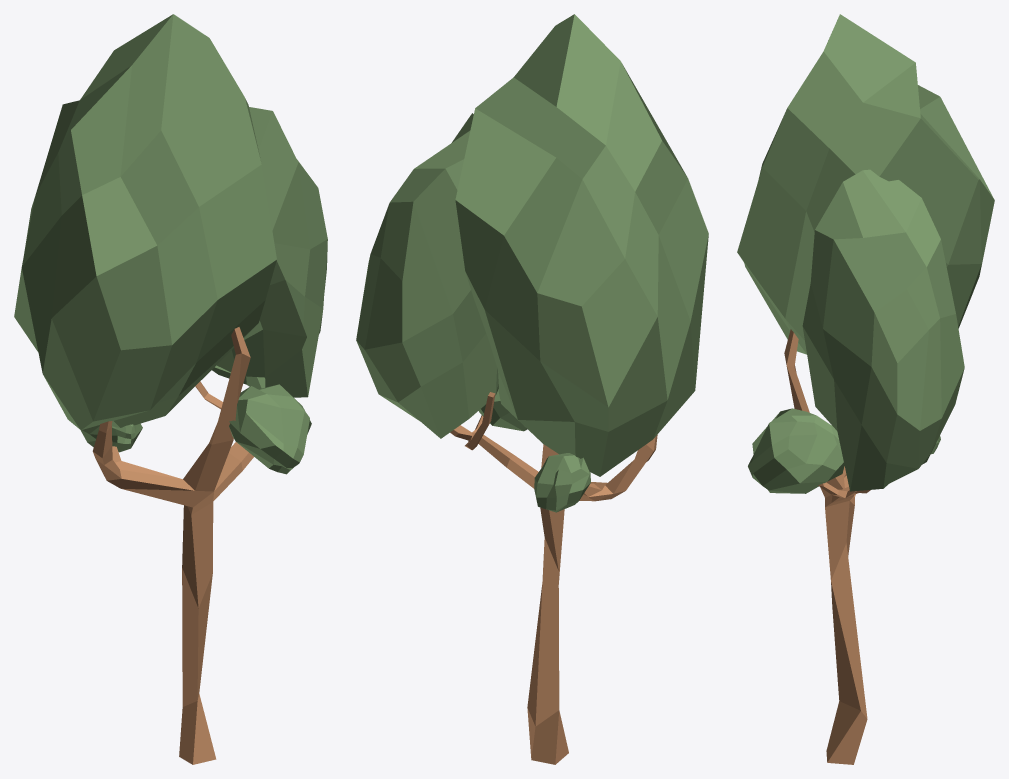
Rendered from ArbolT3.fbx.
The picture shows the model from 3 angles, left to right: view 1: azimuth 30°, elevation 25°; view 2: azimuth 150°, elevation 25°; view 3: azimuth 270°, elevation 25°; orthographic projection. The views are drawn at different scales.
Visible parts, largest first — view 1: Cube, Cube.001, Arbol01, Cube.002, Cube.003; view 2: Cube, Cube.001, Arbol01, Cube.003, Cube.002; view 3: Cube.001, Cube, Arbol01, Cube.002.
Part boxes in pixels (x1,y1,x2,y2): Cube: [14, 14, 276, 430]; Cube.001: [212, 107, 327, 397]; Arbol01: [92, 327, 253, 764]; Cube.002: [229, 384, 311, 474]; Cube.003: [81, 423, 142, 452]; Cube: [455, 14, 708, 476]; Cube.001: [356, 113, 498, 438]; Arbol01: [450, 392, 657, 764]; Cube.003: [534, 453, 590, 512]; Cube.002: [479, 390, 527, 431]; Cube.001: [802, 169, 964, 491]; Cube: [737, 14, 994, 354]; Arbol01: [784, 329, 870, 764]; Cube.002: [748, 408, 844, 493].
Bounding box in the file's own units: 1714 × 4078 × 1299.
